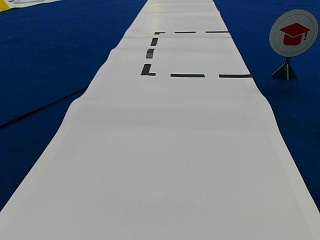school: (269, 9, 317, 56)
